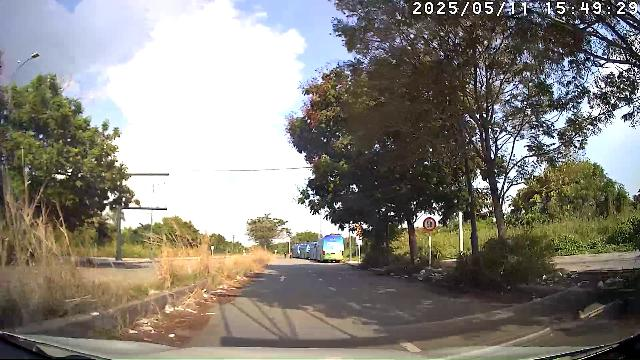127-toc-do-toi-da-50: (424, 217, 436, 231)
